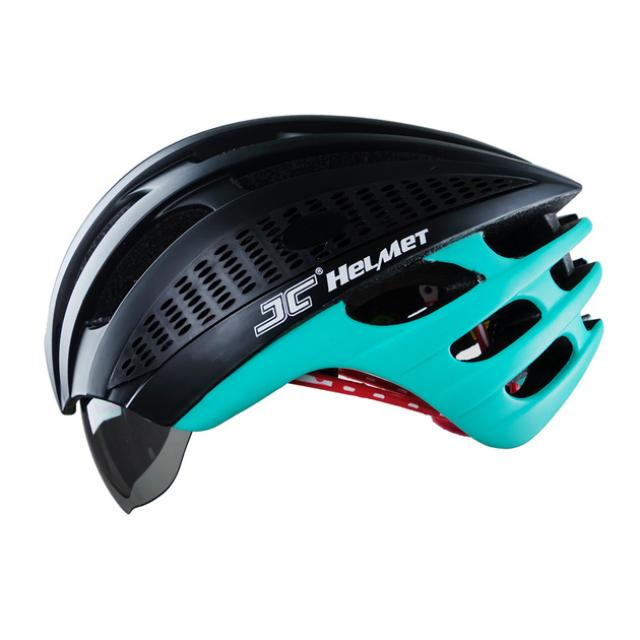Helmet: (40, 110, 608, 514)
